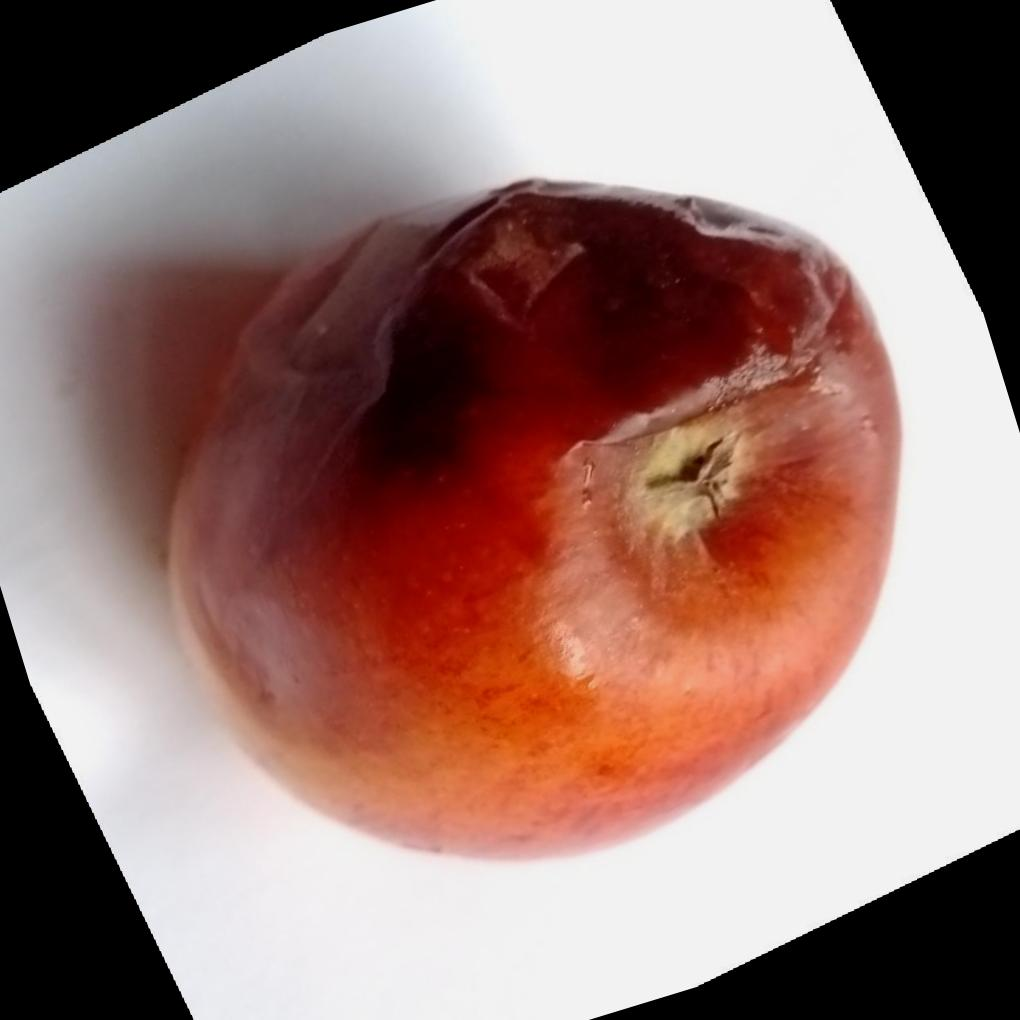FreshOrange: (163, 179, 905, 867)
